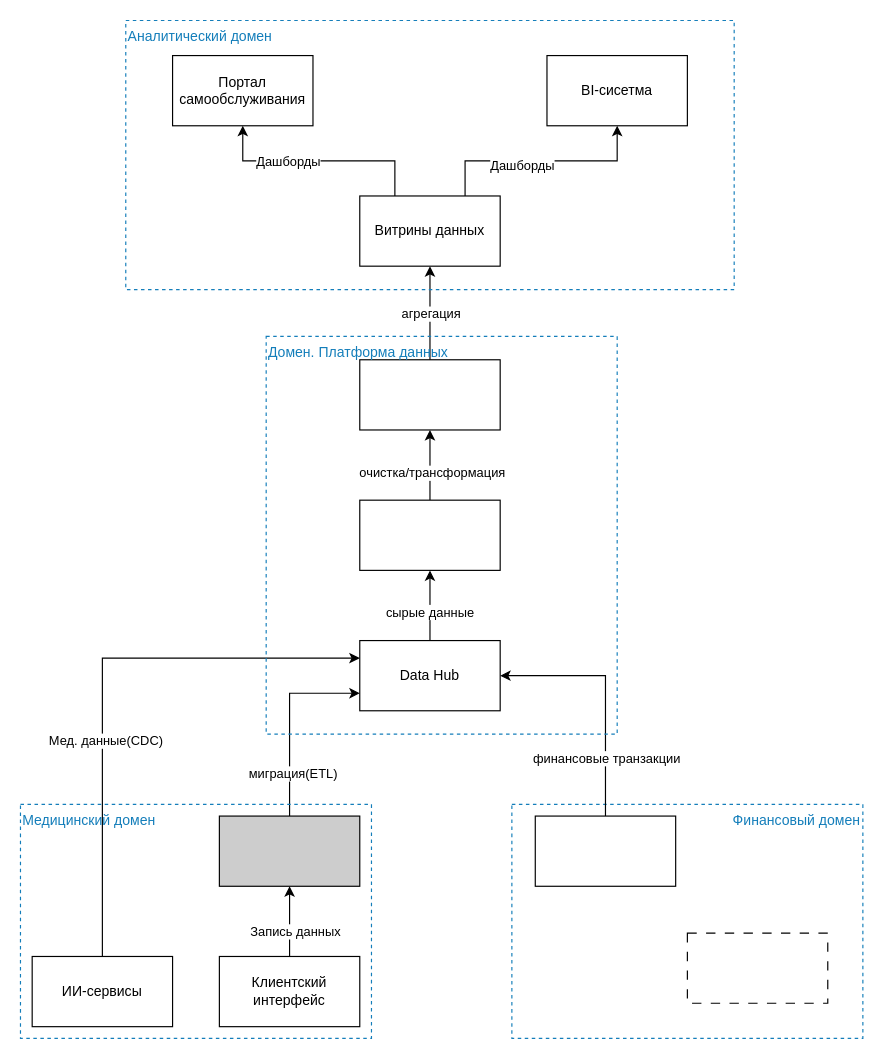
This 883x1059 diagram has some shape labels left out. The shapes that lost their labels are listed below. From the top down, each one's centre as x and y in pixels, then its label:
At [429,394]: "Modern DWH".
At [429,534]: "Data Lake".
At [289,850]: "Legacy DWH".
At [605,850]: "Финтех-сервисы".
At [757,967]: "Счета,Кредиты".
